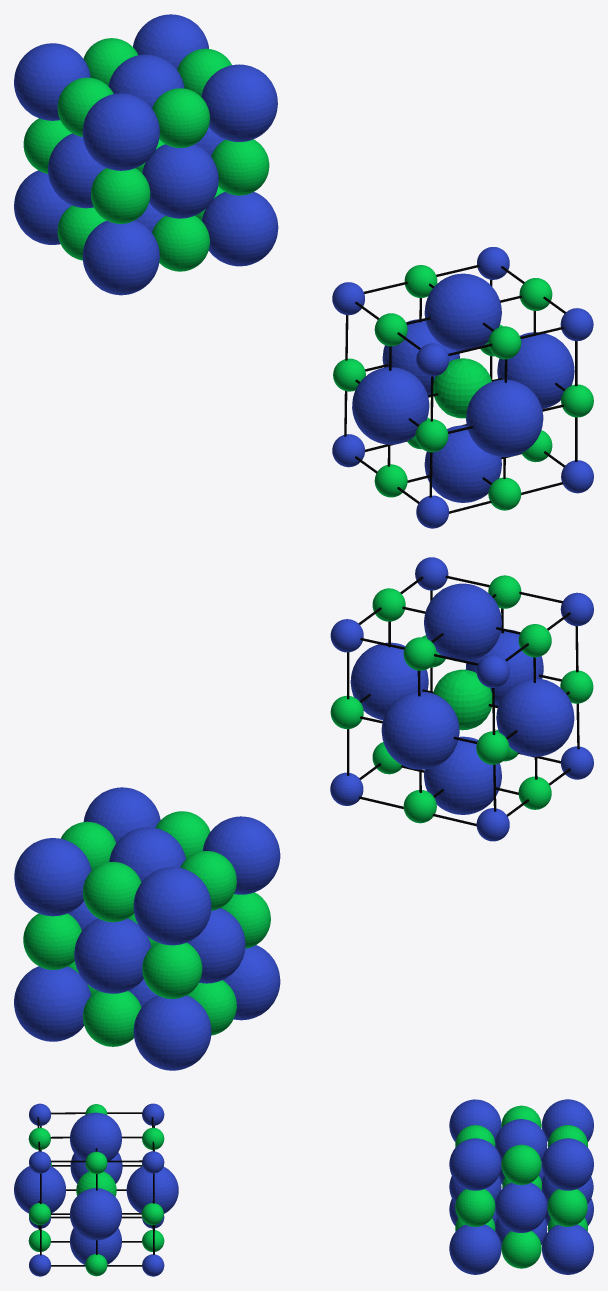
Rendered from CCCNaCl.gltf.
3 views of the same model, one above another, from view 1: azimuth 30°, elevation 25°; view 2: azimuth 150°, elevation 25°; view 3: azimuth 270°, elevation 25° (orthographic). The views are drawn at different scales.
Visible parts, largest first — view 1: Sphere.003, Sphere.063_Sphere.143, Sphere.066_Sphere.146, Sphere.068_Sphere.148, Sphere.007, Sphere.002, Sphere.006, Sphere.009, Sphere, Sphere.065_Sphere.145, Sphere.067_Sphere.147, Sphere.012 (+30 smaller); view 2: Sphere, Sphere.064_Sphere.144, Sphere.066_Sphere.146, Sphere.068_Sphere.148, Sphere.004, Sphere.001, Sphere.005, Sphere.010, Sphere.003, Sphere.065_Sphere.145, Sphere.067_Sphere.147, Sphere.012 (+30 smaller); view 3: Sphere.002, Sphere.001, Sphere.067_Sphere.147, Sphere.006, Sphere.013_Sphere.015, Sphere.005, Sphere.068_Sphere.148, Sphere.064_Sphere.144, Sphere.063_Sphere.143, Sphere, Sphere.003, Sphere.014_Sphere.016 (+27 smaller).
Part boxes in pixels (x1,y1,x2,y2): Sphere.003: [82, 93, 159, 170]; Sphere.063_Sphere.143: [466, 379, 543, 457]; Sphere.066_Sphere.146: [352, 367, 429, 444]; Sphere.068_Sphere.148: [424, 273, 501, 350]; Sphere.007: [82, 220, 159, 295]; Sphere.002: [201, 64, 277, 141]; Sphere.006: [201, 192, 278, 266]; Sphere.009: [142, 144, 218, 218]; Sphere: [14, 43, 90, 120]; Sphere.065_Sphere.145: [424, 425, 501, 502]; Sphere.067_Sphere.147: [497, 332, 574, 408]; Sphere.012: [48, 133, 105, 208]; Sphere: [133, 867, 211, 945]; Sphere.064_Sphere.144: [381, 691, 459, 769]; Sphere.066_Sphere.146: [496, 678, 574, 756]; Sphere.068_Sphere.148: [424, 583, 501, 661]; Sphere.004: [133, 995, 211, 1070]; Sphere.001: [14, 838, 91, 916]; Sphere.005: [14, 966, 90, 1041]; Sphere.010: [74, 918, 151, 993]; Sphere.003: [202, 816, 280, 894]; Sphere.065_Sphere.145: [424, 736, 501, 814]; Sphere.067_Sphere.147: [350, 642, 428, 720]; Sphere.012: [187, 908, 245, 983]; Sphere.002: [449, 1138, 501, 1190]; Sphere.001: [542, 1138, 593, 1190]; Sphere.067_Sphere.147: [70, 1188, 121, 1240]; Sphere.006: [449, 1224, 501, 1274]; Sphere.013_Sphere.015: [495, 1182, 547, 1232]; Sphere.005: [542, 1224, 593, 1274]; Sphere.068_Sphere.148: [70, 1112, 121, 1160]; Sphere.064_Sphere.144: [126, 1166, 178, 1213]; Sphere.063_Sphere.143: [14, 1166, 65, 1213]; Sphere: [542, 1099, 593, 1141]; Sphere.003: [449, 1099, 501, 1141]; Sphere.014_Sphere.016: [495, 1119, 547, 1161].
Bounding box in the file's own units: 8.85 × 8.89 × 31.1.
